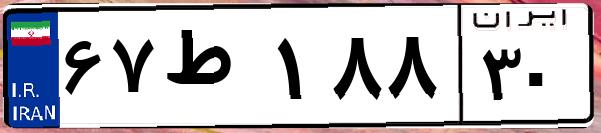0: (525, 38, 570, 115)
1: (270, 28, 330, 110)
3: (475, 38, 525, 113)
6: (57, 26, 110, 100)
7: (110, 28, 158, 98)
8: (385, 28, 445, 110), (330, 28, 385, 110)
ط: (158, 20, 270, 120)
